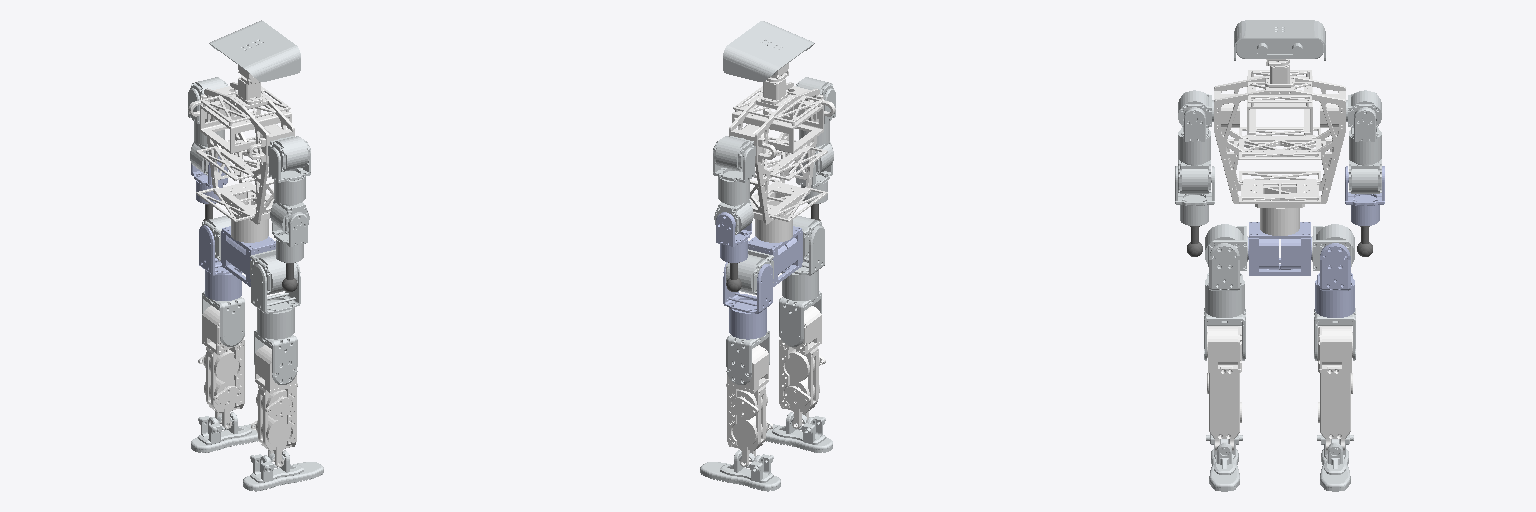
--- Facts derived from the render (not from the file) ---
The picture shows the robot from 3 angles, left to right: view 1: azimuth 30°, elevation 25°; view 2: azimuth 150°, elevation 25°; view 3: azimuth 270°, elevation 25°; orthographic projection.
Robot: hi_25dof_250708 — 27 links, 26 joints (25 revolute, 1 floating); root link world; default pose: every joint at zero.
Links seen in each view (by area): view 1: base_link, l_calf_link, r_calf_link, head_pitch_link, r_hip_roll_link, r_ankle_roll_link, l_hip_roll_link, l_ankle_roll_link, waist_link, r_shoulder_roll_link, r_thigh_link, l_thigh_link (+5 smaller); view 2: base_link, r_calf_link, l_calf_link, head_pitch_link, l_hip_roll_link, l_ankle_roll_link, r_hip_roll_link, r_ankle_roll_link, waist_link, l_shoulder_roll_link, l_thigh_link, r_thigh_link (+5 smaller); view 3: base_link, l_calf_link, r_calf_link, head_pitch_link, waist_link, l_hip_roll_link, r_hip_roll_link, l_shoulder_roll_link, r_shoulder_roll_link, l_ankle_roll_link, r_ankle_roll_link, l_elbow_link (+9 smaller).
Link boxes in pixels (x1,y1,x2,y2): base_link: (188, 77, 294, 242); l_calf_link: (198, 306, 244, 428); r_calf_link: (251, 345, 297, 466); head_pitch_link: (209, 20, 300, 81); r_hip_roll_link: (251, 262, 300, 339); r_ankle_roll_link: (243, 450, 323, 491); l_hip_roll_link: (199, 225, 241, 300); l_ankle_roll_link: (191, 412, 258, 452); waist_link: (221, 226, 275, 286); r_shoulder_roll_link: (269, 141, 310, 204); r_thigh_link: (254, 330, 297, 384); l_thigh_link: (202, 291, 244, 346); base_link: (729, 78, 835, 242); r_calf_link: (779, 306, 825, 428); l_calf_link: (726, 345, 772, 466); head_pitch_link: (723, 21, 814, 81); l_hip_roll_link: (723, 262, 772, 339); l_ankle_roll_link: (700, 450, 780, 491); r_hip_roll_link: (782, 225, 824, 300); r_ankle_roll_link: (765, 412, 832, 452); waist_link: (748, 226, 802, 286); l_shoulder_roll_link: (713, 141, 754, 204); l_thigh_link: (726, 330, 769, 384); r_thigh_link: (779, 291, 821, 346); base_link: (1214, 63, 1345, 235); l_calf_link: (1318, 326, 1352, 450); r_calf_link: (1207, 326, 1241, 450); head_pitch_link: (1234, 20, 1325, 60); waist_link: (1248, 222, 1311, 275); l_hip_roll_link: (1315, 243, 1354, 317); r_hip_roll_link: (1205, 243, 1244, 317); l_shoulder_roll_link: (1349, 107, 1381, 164); r_shoulder_roll_link: (1178, 107, 1210, 164); l_ankle_roll_link: (1317, 434, 1353, 491); r_ankle_roll_link: (1206, 434, 1242, 491); l_elbow_link: (1345, 166, 1384, 225).
Size in the robot's own frame: 0.1755 by 0.3794 by 0.8853 metres.
26 mesh visuals loaded from 26 distinct referenced files (26 binary STL).

URDF robot description (hi_25dof_250708):
<?xml version="1.0" encoding="utf-8"?>
<!-- This URDF was automatically created by SolidWorks to URDF Exporter! Originally created by Stephen Brawner ([email redacted]) 
     Commit Version: 1.6.0-4-g7f85cfe  Build Version: 1.6.7995.38578
     For more information, please see http://wiki.ros.org/sw_urdf_exporter -->
<robot
  name="hi_25dof_250708">
  <mujoco>
		<compiler meshdir="meshes/" balanceinertia="true" discardvisual="false" />
	</mujoco>
  <link name="world"></link>
  <joint name="floating_base_joint" type="floating">
    <parent link="world" />
    <child link="base_link" />
  </joint>
  <link
    name="base_link">
    <inertial>
      <origin
        xyz="0.007306 0 -0.048481"
        rpy="0 0 0" />
      <mass
        value="4.8078654" />
      <inertia
        ixx="0.0458908"
        ixy="-2.4E-06"
        ixz="0.0002193"
        iyy="0.0316408"
        iyz="6E-07"
        izz="0.0186396" />
    </inertial>
    <visual>
      <origin
        xyz="0 0 0"
        rpy="0 0 0" />
      <geometry>
        <mesh
          filename="meshes/base_link.STL" />
      </geometry>
      <material
        name="">
        <color
          rgba="1 1 1 1" />
      </material>
    </visual>
    <collision>
      <origin
        xyz="0 0 0"
        rpy="0 0 0" />
      <geometry>
        <mesh
          filename="meshes/base_link.STL" />
      </geometry>
    </collision>
  </link>
  <link
    name="waist_link">
    <inertial>
      <origin
        xyz="0 0 -0.0391895"
        rpy="0 0 0" />
      <mass
        value="1.3504342" />
      <inertia
        ixx="0.0022104"
        ixy="0"
        ixz="0"
        iyy="0.0010637"
        iyz="0"
        izz="0.0019106" />
    </inertial>
    <visual>
      <origin
        xyz="0 0 0"
        rpy="0 0 0" />
      <geometry>
        <mesh
          filename="meshes/waist_link.STL" />
      </geometry>
      <material
        name="">
        <color
          rgba="0.79216 0.81961 0.93333 1" />
      </material>
    </visual>
    <collision>
      <origin
        xyz="0 0 0"
        rpy="0 0 0" />
      <geometry>
        <mesh
          filename="meshes/waist_link.STL" />
      </geometry>
    </collision>
  </link>
  <joint
    name="waist_joint"
    type="revolute">
    <origin
      xyz="0.009 0 -0.2126"
      rpy="0 0 0" />
    <parent
      link="base_link" />
    <child
      link="waist_link" />
    <axis
      xyz="0 0 1" />
    <limit
      lower="-3.14"
      upper="3.14"
      effort="21"
      velocity="21" />
  </joint>
  <link
    name="l_hip_pitch_link">
    <inertial>
      <origin
        xyz="-0.000511 0.039927 0"
        rpy="0 0 0" />
      <mass
        value="0.66609" />
      <inertia
        ixx="0.0004691"
        ixy="6E-07"
        ixz="0"
        iyy="0.000433"
        iyz="0"
        izz="0.0004671" />
    </inertial>
    <visual>
      <origin
        xyz="0 0 0"
        rpy="0 0 0" />
      <geometry>
        <mesh
          filename="meshes/l_hip_pitch_link.STL" />
      </geometry>
      <material
        name="">
        <color
          rgba="0.89804 0.91765 0.92941 1" />
      </material>
    </visual>
    <collision>
      <origin
        xyz="0 0 0"
        rpy="0 0 0" />
      <geometry>
        <mesh
          filename="meshes/l_hip_pitch_link.STL" />
      </geometry>
    </collision>
  </link>
  <joint
    name="l_hip_pitch_joint"
    type="revolute">
    <origin
      xyz="0 0.0575 -0.04"
      rpy="0 0 0" />
    <parent
      link="waist_link" />
    <child
      link="l_hip_pitch_link" />
    <axis
      xyz="0 1 0" />
    <limit
      lower="-3.14"
      upper="3.14"
      effort="21"
      velocity="21" />
  </joint>
  <link
    name="l_hip_roll_link">
    <inertial>
      <origin
        xyz="-0.026857 0 -0.075365"
        rpy="0 0 0" />
      <mass
        value="0.7909" />
      <inertia
        ixx="0.0013127"
        ixy="0"
        ixz="-2.34E-05"
        iyy="0.0015217"
        iyz="0"
        izz="0.0006822" />
    </inertial>
    <visual>
      <origin
        xyz="0 0 0"
        rpy="0 0 0" />
      <geometry>
        <mesh
          filename="meshes/l_hip_roll_link.STL" />
      </geometry>
      <material
        name="">
        <color
          rgba="0.79216 0.81961 0.93333 1" />
      </material>
    </visual>
    <collision>
      <origin
        xyz="0 0 0"
        rpy="0 0 0" />
      <geometry>
        <mesh
          filename="meshes/l_hip_roll_link.STL" />
      </geometry>
    </collision>
  </link>
  <joint
    name="l_hip_roll_joint"
    type="revolute">
    <origin
      xyz="0.02725 0.042 0"
      rpy="0 0 0" />
    <parent
      link="l_hip_pitch_link" />
    <child
      link="l_hip_roll_link" />
    <axis
      xyz="1 0 0" />
    <limit
      lower="-3.14"
      upper="3.14"
      effort="21"
      velocity="21" />
  </joint>
  <link
    name="l_thigh_link">
    <inertial>
      <origin
        xyz="0 -0.0018181 -0.032514"
        rpy="0 0 0" />
      <mass
        value="0.25619" />
      <inertia
        ixx="0.0004162"
        ixy="0"
        ixz="0"
        iyy="0.0002596"
        iyz="-1.71E-05"
        izz="0.0002776" />
    </inertial>
    <visual>
      <origin
        xyz="0 0 0"
        rpy="0 0 0" />
      <geometry>
        <mesh
          filename="meshes/l_thigh_link.STL" />
      </geometry>
      <material
        name="">
        <color
          rgba="0.89804 0.91765 0.92941 1" />
      </material>
    </visual>
    <collision>
      <origin
        xyz="0 0 0"
        rpy="0 0 0" />
      <geometry>
        <mesh
          filename="meshes/l_thigh_link.STL" />
      </geometry>
    </collision>
  </link>
  <joint
    name="l_thigh_joint"
    type="revolute">
    <origin
      xyz="-0.02725 0 -0.123"
      rpy="0 0 0" />
    <parent
      link="l_hip_roll_link" />
    <child
      link="l_thigh_link" />
    <axis
      xyz="0 0 1" />
    <limit
      lower="-3.14"
      upper="3.14"
      effort="21"
      velocity="21" />
  </joint>
  <link
    name="l_calf_link">
    <inertial>
      <origin
        xyz="0.0010782 -0.031083 -0.064513"
        rpy="0 0 0" />
      <mass
        value="1.6402" />
      <inertia
        ixx="0.0064449"
        ixy="1E-06"
        ixz="6.72E-05"
        iyy="0.0065018"
        iyz="-0.0001096"
        izz="0.0008988" />
    </inertial>
    <visual>
      <origin
        xyz="0 0 0"
        rpy="0 0 0" />
      <geometry>
        <mesh
          filename="meshes/l_calf_link.STL" />
      </geometry>
      <material
        name="">
        <color
          rgba="1 1 1 1" />
      </material>
    </visual>
    <collision>
      <origin
        xyz="0 0 0"
        rpy="0 0 0" />
      <geometry>
        <mesh
          filename="meshes/l_calf_link.STL" />
      </geometry>
    </collision>
  </link>
  <joint
    name="l_calf_joint"
    type="revolute">
    <origin
      xyz="0 0.03175 -0.069"
      rpy="0 0 0" />
    <parent
      link="l_thigh_link" />
    <child
      link="l_calf_link" />
    <axis
      xyz="0 1 0" />
    <limit
      lower="-3.14"
      upper="3.14"
      effort="21"
      velocity="21" />
  </joint>
  <link
    name="l_ankle_pitch_link">
    <inertial>
      <origin
        xyz="-0.0009911 0 0"
        rpy="0 0 0" />
      <mass
        value="0.013231" />
      <inertia
        ixx="9E-07"
        ixy="0"
        ixz="0"
        iyy="2.8E-06"
        iyz="0"
        izz="2.3E-06" />
    </inertial>
    <visual>
      <origin
        xyz="0 0 0"
        rpy="0 0 0" />
      <geometry>
        <mesh
          filename="meshes/l_ankle_pitch_link.STL" />
      </geometry>
      <material
        name="">
        <color
          rgba="0.89804 0.91765 0.92941 1" />
      </material>
    </visual>
    <collision>
      <origin
        xyz="0 0 0"
        rpy="0 0 0" />
      <geometry>
        <mesh
          filename="meshes/l_ankle_pitch_link.STL" />
      </geometry>
    </collision>
  </link>
  <joint
    name="l_ankle_pitch_joint"
    type="revolute">
    <origin
      xyz="0 -0.03175 -0.19945"
      rpy="0 0 0" />
    <parent
      link="l_calf_link" />
    <child
      link="l_ankle_pitch_link" />
    <axis
      xyz="0 1 0" />
    <limit
      lower="-3.14"
      upper="3.14"
      effort="21"
      velocity="21" />
  </joint>
  <link
    name="l_ankle_roll_link">
    <inertial>
      <origin
        xyz="-0.012597 0 -0.028754"
        rpy="0 0 0" />
      <mass
        value="0.40357" />
      <inertia
        ixx="0.0001488"
        ixy="0"
        ixz="6.23E-05"
        iyy="0.000774"
        iyz="0"
        izz="0.0007691" />
    </inertial>
    <visual>
      <origin
        xyz="0 0 0"
        rpy="0 0 0" />
      <geometry>
        <mesh
          filename="meshes/l_ankle_roll_link.STL" />
      </geometry>
      <material
        name="">
        <color
          rgba="0.89804 0.91765 0.92941 1" />
      </material>
    </visual>
    <collision>
      <origin
        xyz="0 0 0"
        rpy="0 0 0" />
      <geometry>
        <mesh
          filename="meshes/l_ankle_roll_link.STL" />
      </geometry>
    </collision>
  </link>
  <joint
    name="l_ankle_roll_joint"
    type="revolute">
    <origin
      xyz="0.0215 0 0"
      rpy="0 0 0" />
    <parent
      link="l_ankle_pitch_link" />
    <child
      link="l_ankle_roll_link" />
    <axis
      xyz="1 0 0" />
    <limit
      lower="-3.14"
      upper="3.14"
      effort="21"
      velocity="21" />
  </joint>
  <link
    name="r_hip_pitch_link">
    <inertial>
      <origin
        xyz="-0.000511 -0.039927 0"
        rpy="0 0 0" />
      <mass
        value="0.66609" />
      <inertia
        ixx="0.0004691"
        ixy="-6E-07"
        ixz="0"
        iyy="0.000433"
        iyz="0"
        izz="0.0004671" />
    </inertial>
    <visual>
      <origin
        xyz="0 0 0"
        rpy="0 0 0" />
      <geometry>
        <mesh
          filename="meshes/r_hip_pitch_link.STL" />
      </geometry>
      <material
        name="">
        <color
          rgba="0.89804 0.91765 0.92941 1" />
      </material>
    </visual>
    <collision>
      <origin
        xyz="0 0 0"
        rpy="0 0 0" />
      <geometry>
        <mesh
          filename="meshes/r_hip_pitch_link.STL" />
      </geometry>
    </collision>
  </link>
  <joint
    name="r_hip_pitch_joint"
    type="revolute">
    <origin
      xyz="0 -0.0575 -0.04"
      rpy="0 0 0" />
    <parent
      link="waist_link" />
    <child
      link="r_hip_pitch_link" />
    <axis
      xyz="0 1 0" />
    <limit
      lower="-3.14"
      upper="3.14"
      effort="21"
      velocity="21" />
  </joint>
  <link
    name="r_hip_roll_link">
    <inertial>
      <origin
        xyz="-0.0268572 0 -0.0753647"
        rpy="0 0 0" />
      <mass
        value="0.7909034" />
      <inertia
        ixx="0.0013127"
        ixy="0"
        ixz="-2.34E-05"
        iyy="0.0015217"
        iyz="0"
        izz="0.0006822" />
    </inertial>
    <visual>
      <origin
        xyz="0 0 0"
        rpy="0 0 0" />
      <geometry>
        <mesh
          filename="meshes/r_hip_roll_link.STL" />
      </geometry>
      <material
        name="">
        <color
          rgba="0.89804 0.91765 0.92941 1" />
      </material>
    </visual>
    <collision>
      <origin
        xyz="0 0 0"
        rpy="0 0 0" />
      <geometry>
        <mesh
          filename="meshes/r_hip_roll_link.STL" />
      </geometry>
    </collision>
  </link>
  <joint
    name="r_hip_roll_joint"
    type="revolute">
    <origin
      xyz="0.02725 -0.042 0"
      rpy="0 0 0" />
    <parent
      link="r_hip_pitch_link" />
    <child
      link="r_hip_roll_link" />
    <axis
      xyz="1 0 0" />
    <limit
      lower="-3.14"
      upper="3.14"
      effort="21"
      velocity="21" />
  </joint>
  <link
    name="r_thigh_link">
    <inertial>
      <origin
        xyz="0 0.0018181 -0.032514"
        rpy="0 0 0" />
      <mass
        value="0.25619" />
      <inertia
        ixx="0.0004162"
        ixy="0"
        ixz="0"
        iyy="0.0002596"
        iyz="1.71E-05"
        izz="0.0002776" />
    </inertial>
    <visual>
      <origin
        xyz="0 0 0"
        rpy="0 0 0" />
      <geometry>
        <mesh
          filename="meshes/r_thigh_link.STL" />
      </geometry>
      <material
        name="">
        <color
          rgba="0.89804 0.91765 0.92941 1" />
      </material>
    </visual>
    <collision>
      <origin
        xyz="0 0 0"
        rpy="0 0 0" />
      <geometry>
        <mesh
          filename="meshes/r_thigh_link.STL" />
      </geometry>
    </collision>
  </link>
  <joint
    name="r_thigh_joint"
    type="revolute">
    <origin
      xyz="-0.02725 0 -0.123"
      rpy="0 0 0" />
    <parent
      link="r_hip_roll_link" />
    <child
      link="r_thigh_link" />
    <axis
      xyz="0 0 1" />
    <limit
      lower="-3.14"
      upper="3.14"
      effort="21"
      velocity="21" />
  </joint>
  <link
    name="r_calf_link">
    <inertial>
      <origin
        xyz="0.0010785 0.0310814 -0.0645143"
        rpy="0 0 0" />
      <mass
        value="1.6401929" />
      <inertia
        ixx="0.0064446"
        ixy="-1E-06"
        ixz="6.71E-05"
        iyy="0.0065017"
        iyz="0.0001076"
        izz="0.0008985" />
    </inertial>
    <visual>
      <origin
        xyz="0 0 0"
        rpy="0 0 0" />
      <geometry>
        <mesh
          filename="meshes/r_calf_link.STL" />
      </geometry>
      <material
        name="">
        <color
          rgba="1 1 1 1" />
      </material>
    </visual>
    <collision>
      <origin
        xyz="0 0 0"
        rpy="0 0 0" />
      <geometry>
        <mesh
          filename="meshes/r_calf_link.STL" />
      </geometry>
    </collision>
  </link>
  <joint
    name="r_calf_joint"
    type="revolute">
    <origin
      xyz="0 -0.03175 -0.069"
      rpy="0 0 0" />
    <parent
      link="r_thigh_link" />
    <child
      link="r_calf_link" />
    <axis
      xyz="0 1 0" />
    <limit
      lower="-3.14"
      upper="3.14"
      effort="21"
      velocity="21" />
  </joint>
  <link
    name="r_ankle_pitch_link">
    <inertial>
      <origin
        xyz="-0.0009911 0 0"
        rpy="0 0 0" />
      <mass
        value="0.013231" />
      <inertia
        ixx="9E-07"
        ixy="0"
        ixz="0"
        iyy="2.8E-06"
        iyz="0"
        izz="2.3E-06" />
    </inertial>
    <visual>
      <origin
        xyz="0 0 0"
        rpy="0 0 0" />
      <geometry>
        <mesh
          filename="meshes/r_ankle_pitch_link.STL" />
      </geometry>
      <material
        name="">
        <color
          rgba="0.89804 0.91765 0.92941 1" />
      </material>
    </visual>
    <collision>
      <origin
        xyz="0 0 0"
        rpy="0 0 0" />
      <geometry>
        <mesh
          filename="meshes/r_ankle_pitch_link.STL" />
      </geometry>
    </collision>
  </link>
  <joint
    name="r_ankle_pitch_joint"
    type="revolute">
    <origin
      xyz="0 0.03175 -0.19945"
      rpy="0 0 0" />
    <parent
      link="r_calf_link" />
    <child
      link="r_ankle_pitch_link" />
    <axis
      xyz="0 1 0" />
    <limit
      lower="-3.14"
      upper="3.14"
      effort="21"
      velocity="21" />
  </joint>
  <link
    name="r_ankle_roll_link">
    <inertial>
      <origin
        xyz="-0.012597 0 -0.028754"
        rpy="0 0 0" />
      <mass
        value="0.40357" />
      <inertia
        ixx="0.0001488"
        ixy="0"
        ixz="6.23E-05"
        iyy="0.000774"
        iyz="0"
        izz="0.0007691" />
    </inertial>
    <visual>
      <origin
        xyz="0 0 0"
        rpy="0 0 0" />
      <geometry>
        <mesh
          filename="meshes/r_ankle_roll_link.STL" />
      </geometry>
      <material
        name="">
        <color
          rgba="0.89804 0.91765 0.92941 1" />
      </material>
    </visual>
    <collision>
      <origin
        xyz="0 0 0"
        rpy="0 0 0" />
      <geometry>
        <mesh
          filename="meshes/r_ankle_roll_link.STL" />
      </geometry>
    </collision>
  </link>
  <joint
    name="r_ankle_roll_joint"
    type="revolute">
    <origin
      xyz="0.0215 0 0"
      rpy="0 0 0" />
    <parent
      link="r_ankle_pitch_link" />
    <child
      link="r_ankle_roll_link" />
    <axis
      xyz="1 0 0" />
    <limit
      lower="-3.14"
      upper="3.14"
      effort="21"
      velocity="21" />
  </joint>
  <link
    name="l_shoulder_pitch_link">
    <inertial>
      <origin
        xyz="-0.0007568 0.030935 0"
        rpy="0 0 0" />
      <mass
        value="0.39963" />
      <inertia
        ixx="0.000199"
        ixy="1E-06"
        ixz="0"
        iyy="0.0001824"
        iyz="0"
        izz="0.0002098" />
    </inertial>
    <visual>
      <origin
        xyz="0 0 0"
        rpy="0 0 0" />
      <geometry>
        <mesh
          filename="meshes/l_shoulder_pitch_link.STL" />
      </geometry>
      <material
        name="">
        <color
          rgba="0.89804 0.91765 0.92941 1" />
      </material>
    </visual>
    <collision>
      <origin
        xyz="0 0 0"
        rpy="0 0 0" />
      <geometry>
        <mesh
          filename="meshes/l_shoulder_pitch_link.STL" />
      </geometry>
    </collision>
  </link>
  <joint
    name="l_shoulder_pitch_joint"
    type="revolute">
    <origin
      xyz="0.009 0.11945 0.020657"
      rpy="0 0 0" />
    <parent
      link="base_link" />
    <child
      link="l_shoulder_pitch_link" />
    <axis
      xyz="0 1 0" />
    <limit
      lower="-3.14"
      upper="3.14"
      effort="21"
      velocity="21" />
  </joint>
  <link
    name="l_shoulder_roll_link">
    <inertial>
      <origin
        xyz="-0.02515 0 -0.060623"
        rpy="0 0 0" />
      <mass
        value="0.45112" />
      <inertia
        ixx="0.0003758"
        ixy="0"
        ixz="3.22E-05"
        iyy="0.0004383"
        iyz="0"
        izz="0.0002478" />
    </inertial>
    <visual>
      <origin
        xyz="0 0 0"
        rpy="0 0 0" />
      <geometry>
        <mesh
          filename="meshes/l_shoulder_roll_link.STL" />
      </geometry>
      <material
        name="">
        <color
          rgba="0.89804 0.91765 0.92941 1" />
      </material>
    </visual>
    <collision>
      <origin
        xyz="0 0 0"
        rpy="0 0 0" />
      <geometry>
        <mesh
          filename="meshes/l_shoulder_roll_link.STL" />
      </geometry>
    </collision>
  </link>
  <joint
    name="l_shoulder_roll_joint"
    type="revolute">
    <origin
      xyz="0.02335 0.034 0"
      rpy="0 0 0" />
    <parent
      link="l_shoulder_pitch_link" />
    <child
      link="l_shoulder_roll_link" />
    <axis
      xyz="1 0 0" />
    <limit
      lower="-3.14"
      upper="3.14"
      effort="21"
      velocity="21" />
  </joint>
  <link
    name="l_upper_arm_link">
    <inertial>
      <origin
        xyz="0 -0.0007568 -0.030935"
        rpy="0 0 0" />
      <mass
        value="0.39963" />
      <inertia
        ixx="0.0002098"
        ixy="0"
        ixz="0"
        iyy="0.000199"
        iyz="-1E-06"
        izz="0.0001824" />
    </inertial>
    <visual>
      <origin
        xyz="0 0 0"
        rpy="0 0 0" />
      <geometry>
        <mesh
          filename="meshes/l_upper_arm_link.STL" />
      </geometry>
      <material
        name="">
        <color
          rgba="0.89804 0.91765 0.92941 1" />
      </material>
    </visual>
    <collision>
      <origin
        xyz="0 0 0"
        rpy="0 0 0" />
      <geometry>
        <mesh
          filename="meshes/l_upper_arm_link.STL" />
      </geometry>
    </collision>
  </link>
  <joint
    name="l_upper_arm_joint"
    type="revolute">
    <origin
      xyz="-0.0236 0 -0.0977"
      rpy="0 0 0" />
    <parent
      link="l_shoulder_roll_link" />
    <child
      link="l_upper_arm_link" />
    <axis
      xyz="0 0 1" />
    <limit
      lower="-3.14"
      upper="3.14"
      effort="21"
      velocity="21" />
  </joint>
  <link
    name="l_elbow_link">
    <inertial>
      <origin
        xyz="0 -0.026131 -0.051717"
        rpy="0 0 0" />
      <mass
        value="0.27632" />
      <inertia
        ixx="0.0002914"
        ixy="0"
        ixz="0"
        iyy="0.0002296"
        iyz="2.59E-05"
        izz="0.0001518" />
    </inertial>
    <visual>
      <origin
        xyz="0 0 0"
        rpy="0 0 0" />
      <geometry>
        <mesh
          filename="meshes/l_elbow_link.STL" />
      </geometry>
      <material
        name="">
        <color
          rgba="0.79216 0.81961 0.93333 1" />
      </material>
    </visual>
    <collision>
      <origin
        xyz="0 0 0"
        rpy="0 0 0" />
      <geometry>
        <mesh
          filename="meshes/l_elbow_link.STL" />
      </geometry>
    </collision>
  </link>
  <joint
    name="l_elbow_joint"
    type="revolute">
    <origin
      xyz="0 0.02335 -0.034"
      rpy="0 0 0" />
    <parent
      link="l_upper_arm_link" />
    <child
      link="l_elbow_link" />
    <axis
      xyz="0 1 0" />
    <limit
      lower="-3.14"
      upper="3.14"
      effort="21"
      velocity="21" />
  </joint>
  <link
    name="l_wrist_link">
    <inertial>
      <origin
        xyz="0 0 -0.0390078"
        rpy="0 0 0" />
      <mass
        value="0.2921" />
      <inertia
        ixx="0.0001388"
        ixy="0"
        ixz="0"
        iyy="0.0001388"
        iyz="0"
        izz="2.21E-05" />
    </inertial>
    <visual>
      <origin
        xyz="0 0 0"
        rpy="0 0 0" />
      <geometry>
        <mesh
          filename="meshes/l_wrist_link.STL" />
      </geometry>
      <material
        name="">
        <color
          rgba="0.50196 0.50196 0.50196 1" />
      </material>
    </visual>
    <collision>
      <origin
        xyz="0 0 0"
        rpy="0 0 0" />
      <geometry>
        <mesh
          filename="meshes/l_wrist_link.STL" />
      </geometry>
    </collision>
  </link>
  <joint
    name="l_wrist_joint"
    type="revolute">
    <origin
      xyz="0 -0.0236 -0.0884"
      rpy="0 0 0" />
    <parent
      link="l_elbow_link" />
    <child
      link="l_wrist_link" />
    <axis
      xyz="0 0 1" />
    <limit
      lower="-3.14"
      upper="3.14"
      effort="21"
      velocity="21" />
  </joint>
  <link
    name="r_shoulder_pitch_link">
    <inertial>
      <origin
        xyz="-0.0007568 -0.030935 0"
        rpy="0 0 0" />
      <mass
        value="0.39963" />
      <inertia
        ixx="0.000199"
        ixy="-1E-06"
        ixz="0"
        iyy="0.0001824"
        iyz="0"
        izz="0.0002098" />
    </inertial>
    <visual>
      <origin
        xyz="0 0 0"
        rpy="0 0 0" />
      <geometry>
        <mesh
          filename="meshes/r_shoulder_pitch_link.STL" />
      </geometry>
      <material
        name="">
        <color
          rgba="0.89804 0.91765 0.92941 1" />
      </material>
    </visual>
    <collision>
      <origin
        xyz="0 0 0"
        rpy="0 0 0" />
      <geometry>
        <mesh
          filename="meshes/r_shoulder_pitch_link.STL" />
      </geometry>
    </collision>
  </link>
  <joint
    name="r_shoulder_pitch_joint"
    type="revolute">
    <origin
      xyz="0.009 -0.11945 0.020657"
      rpy="0 0 0" />
    <parent
      link="base_link" />
    <child
      link="r_shoulder_pitch_link" />
    <axis
      xyz="0 1 0" />
    <limit
      lower="-3.14"
      upper="3.14"
      effort="21"
      velocity="21" />
  </joint>
  <link
    name="r_shoulder_roll_link">
    <inertial>
      <origin
        xyz="-0.02515 0 -0.060623"
        rpy="0 0 0" />
      <mass
        value="0.45112" />
      <inertia
        ixx="0.0003758"
        ixy="0"
        ixz="3.22E-05"
        iyy="0.0004383"
        iyz="0"
        izz="0.0002478" />
    </inertial>
    <visual>
      <origin
        xyz="0 0 0"
        rpy="0 0 0" />
      <geometry>
        <mesh
          filename="meshes/r_shoulder_roll_link.STL" />
      </geometry>
      <material
        name="">
        <color
          rgba="0.89804 0.91765 0.92941 1" />
      </material>
    </visual>
    <collision>
      <origin
        xyz="0 0 0"
        rpy="0 0 0" />
      <geometry>
        <mesh
          filename="meshes/r_shoulder_roll_link.STL" />
      </geometry>
    </collision>
  </link>
  <joint
    name="r_shoulder_roll_joint"
    type="revolute">
    <origin
      xyz="0.02335 -0.034 0"
      rpy="0 0 0" />
    <parent
      link="r_shoulder_pitch_link" />
    <child
      link="r_shoulder_roll_link" />
    <axis
      xyz="1 0 0" />
    <limit
      lower="-3.14"
      upper="3.14"
      effort="21"
      velocity="21" />
  </joint>
  <link
    name="r_upper_arm_link">
    <inertial>
      <origin
        xyz="0 0.0007568 -0.030935"
        rpy="0 0 0" />
      <mass
        value="0.39963" />
      <inertia
        ixx="0.0002098"
        ixy="0"
        ixz="0"
        iyy="0.000199"
        iyz="1E-06"
        izz="0.0001824" />
    </inertial>
    <visual>
      <origin
        xyz="0 0 0"
        rpy="0 0 0" />
      <geometry>
        <mesh
          filename="meshes/r_upper_arm_link.STL" />
      </geometry>
      <material
        name="">
        <color
          rgba="0.89804 0.91765 0.92941 1" />
      </material>
    </visual>
    <collision>
      <origin
        xyz="0 0 0"
        rpy="0 0 0" />
      <geometry>
        <mesh
          filename="meshes/r_upper_arm_link.STL" />
      </geometry>
    </collision>
  </link>
  <joint
    name="r_upper_arm_joint"
    type="revolute">
    <origin
      xyz="-0.0236 0 -0.0977"
      rpy="0 0 0" />
    <parent
      link="r_shoulder_roll_link" />
    <child
      link="r_upper_arm_link" />
    <axis
      xyz="0 0 1" />
    <limit
      lower="-3.14"
      upper="3.14"
      effort="21"
      velocity="21" />
  </joint>
  <link
    name="r_elbow_link">
    <inertial>
      <origin
        xyz="0 0.026131 -0.051717"
        rpy="0 0 0" />
      <mass
        value="0.27632" />
      <inertia
        ixx="0.0002914"
        ixy="0"
        ixz="0"
        iyy="0.0002296"
        iyz="-2.59E-05"
        izz="0.0001518" />
    </inertial>
    <visual>
      <origin
        xyz="0 0 0"
        rpy="0 0 0" />
      <geometry>
        <mesh
          filename="meshes/r_elbow_link.STL" />
      </geometry>
      <material
        name="">
        <color
          rgba="0.89804 0.91765 0.92941 1" />
      </material>
    </visual>
    <collision>
      <origin
        xyz="0 0 0"
        rpy="0 0 0" />
      <geometry>
        <mesh
          filename="meshes/r_elbow_link.STL" />
      </geometry>
    </collision>
  </link>
  <joint
    name="r_elbow_joint"
    type="revolute">
    <origin
      xyz="0 -0.02335 -0.034"
      rpy="0 0 0" />
    <parent
      link="r_upper_arm_link" />
    <child
      link="r_elbow_link" />
    <axis
      xyz="0 1 0" />
    <limit
      lower="-3.14"
      upper="3.14"
      effort="21"
      velocity="21" />
  </joint>
  <link
    name="r_wrist_link">
    <inertial>
      <origin
        xyz="0 0 -0.0390078"
        rpy="0 0 0" />
      <mass
        value="0.2921" />
      <inertia
        ixx="0.0001388"
        ixy="0"
        ixz="0"
        iyy="0.0001388"
        iyz="0"
        izz="2.21E-05" />
    </inertial>
    <visual>
      <origin
        xyz="0 0 0"
        rpy="0 0 0" />
      <geometry>
        <mesh
          filename="meshes/r_wrist_link.STL" />
      </geometry>
      <material
        name="">
        <color
          rgba="0.50196 0.50196 0.50196 1" />
      </material>
    </visual>
    <collision>
      <origin
        xyz="0 0 0"
        rpy="0 0 0" />
      <geometry>
        <mesh
          filename="meshes/r_wrist_link.STL" />
      </geometry>
    </collision>
  </link>
  <joint
    name="r_wrist_joint"
    type="revolute">
    <origin
      xyz="0 0.0236 -0.0884"
      rpy="0 0 0" />
    <parent
      link="r_elbow_link" />
    <child
      link="r_wrist_link" />
    <axis
      xyz="0 0 1" />
    <limit
      lower="-3.14"
      upper="3.14"
      effort="21"
      velocity="21" />
  </joint>
  <link
    name="head_yaw_link">
    <inertial>
      <origin
        xyz="2E-05 -0.0015717 0.022694"
        rpy="0 0 0" />
      <mass
        value="0.17851" />
      <inertia
        ixx="2.2E-05"
        ixy="0"
        ixz="0"
        iyy="1.79E-05"
        iyz="-2.3E-06"
        izz="1.46E-05" />
    </inertial>
    <visual>
      <origin
        xyz="0 0 0"
        rpy="0 0 0" />
      <geometry>
        <mesh
          filename="meshes/head_yaw_link.STL" />
      </geometry>
      <material
        name="">
        <color
          rgba="1 1 1 1" />
      </material>
    </visual>
    <collision>
      <origin
        xyz="0 0 0"
        rpy="0 0 0" />
      <geometry>
        <mesh
          filename="meshes/head_yaw_link.STL" />
      </geometry>
    </collision>
  </link>
  <joint
    name="head_yaw_joint"
    type="revolute">
    <origin
      xyz="0.009 0 0.1175"
      rpy="0 0 0" />
    <parent
      link="base_link" />
    <child
      link="head_yaw_link" />
    <axis
      xyz="0 0 1" />
    <limit
      lower="-3.14"
      upper="3.14"
      effort="21"
      velocity="21" />
  </joint>
  <link
    name="head_pitch_link">
    <inertial>
      <origin
        xyz="0.02294 -0.013625 0.031517"
        rpy="0 0 0" />
      <mass
        value="0.25396" />
      <inertia
        ixx="0.0006648"
        ixy="-1.3E-06"
        ixz="2.9E-06"
        iyy="0.0002612"
        iyz="3.5E-06"
        izz="0.0008343" />
    </inertial>
    <visual>
      <origin
        xyz="0 0 0"
        rpy="0 0 0" />
      <geometry>
        <mesh
          filename="meshes/head_pitch_link.STL" />
      </geometry>
      <material
        name="">
        <color
          rgba="0.89804 0.91765 0.92941 1" />
      </material>
    </visual>
    <collision>
      <origin
        xyz="0 0 0"
        rpy="0 0 0" />
      <geometry>
        <mesh
          filename="meshes/head_pitch_link.STL" />
      </geometry>
    </collision>
  </link>
  <joint
    name="head_pitch_joint"
    type="revolute">
    <origin
      xyz="0 0.0151 0.0255"
      rpy="0 0 0" />
    <parent
      link="head_yaw_link" />
    <child
      link="head_pitch_link" />
    <axis
      xyz="0 1 0" />
    <limit
      lower="-3.14"
      upper="3.14"
      effort="21"
      velocity="21" />
  </joint>
</robot>
